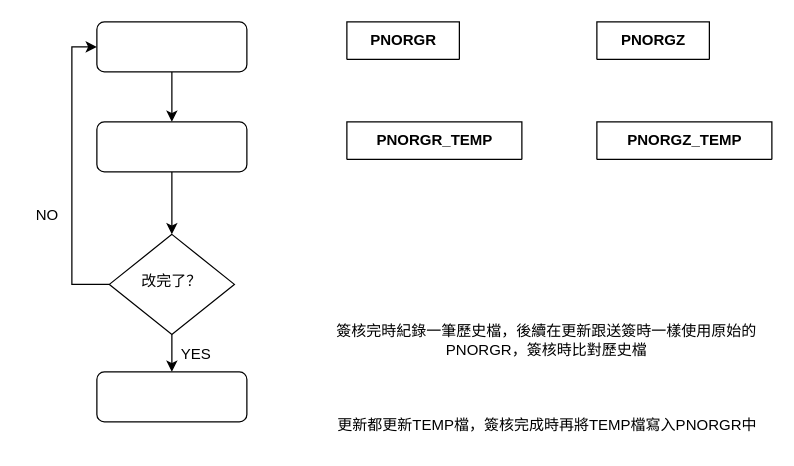
Image size: 794x466. Some labels were removed from this diagram. The shapes that lost their labels are listed below. From the top down, each one's centre as x and y in pixels, then its label:
At [171,46]: "更新".
At [171,146]: "存檔".
At [171,396]: "送簽".
